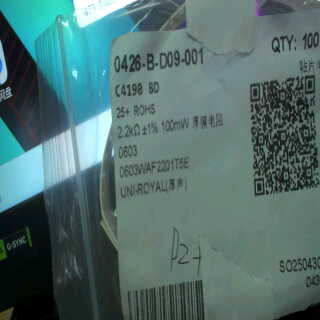2.2kR: (114, 122, 141, 141)
